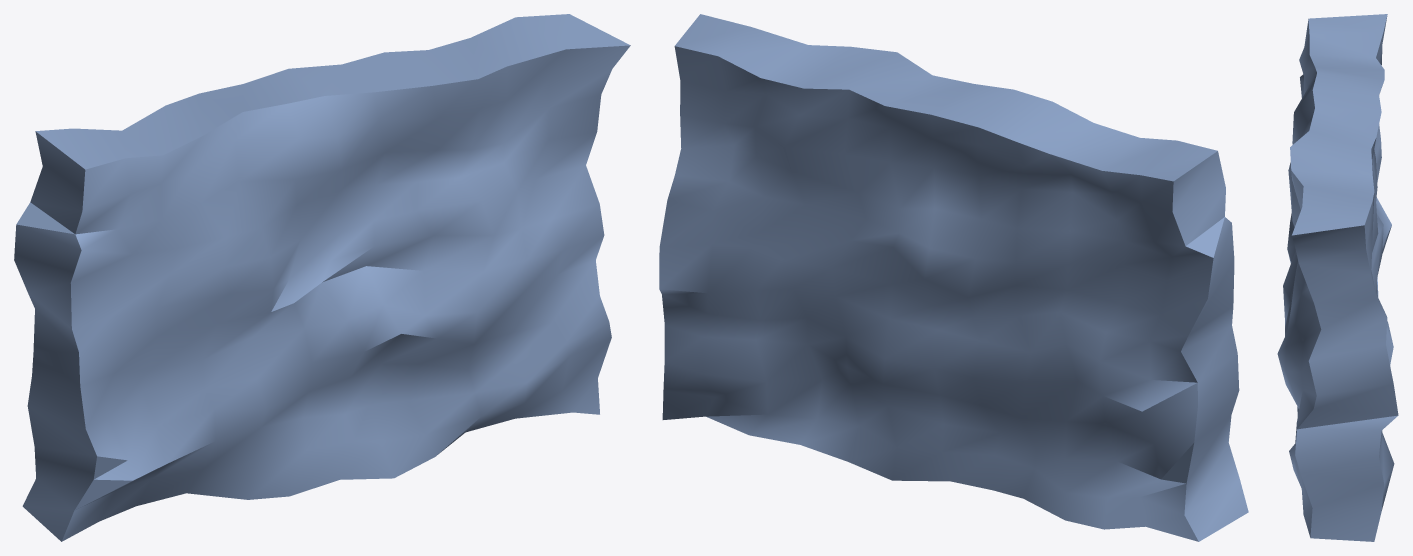
File: ice_wall.fbx
3 renders of one model, left to right at view 1: azimuth 30°, elevation 25°; view 2: azimuth 150°, elevation 25°; view 3: azimuth 270°, elevation 25°, orthographic. The views are drawn at different scales.
Visible parts, largest first — view 1: Cube; view 2: Cube; view 3: Cube.
Boxes of the visible parts, <box> form: Cube: <box>14,14,630,541</box>; Cube: <box>659,14,1248,541</box>; Cube: <box>1277,14,1398,541</box>.
Bounding box in the file's own units: 323 × 213 × 71.52.
